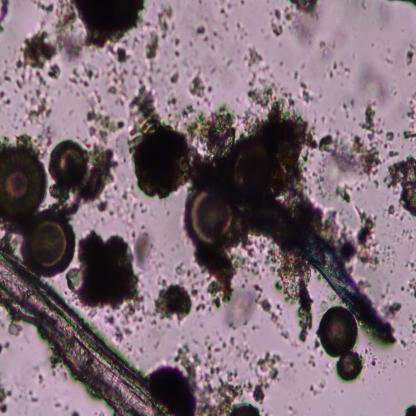Background material: (197, 96, 317, 208), (68, 224, 152, 314), (196, 330, 260, 416), (136, 125, 196, 203), (318, 107, 382, 177), (271, 250, 316, 344), (69, 1, 148, 52), (226, 329, 281, 400), (192, 245, 244, 316), (149, 343, 198, 412), (243, 43, 286, 112), (183, 104, 236, 157), (340, 208, 384, 269), (347, 57, 394, 111), (22, 82, 56, 151), (18, 30, 61, 84), (250, 287, 291, 339), (88, 143, 120, 205), (104, 41, 135, 103), (146, 4, 180, 58), (54, 1, 84, 61), (153, 280, 191, 325), (324, 24, 354, 81), (388, 154, 416, 215), (89, 108, 122, 149), (105, 302, 136, 345), (165, 66, 183, 130), (210, 0, 232, 50), (72, 61, 101, 95), (131, 228, 154, 269), (292, 64, 314, 104), (400, 94, 416, 143), (186, 72, 212, 101), (290, 1, 320, 24), (32, 0, 59, 25), (379, 297, 402, 323), (51, 398, 80, 416), (13, 386, 36, 407), (384, 128, 400, 157), (334, 181, 354, 204), (272, 6, 285, 38), (3, 315, 21, 338), (306, 380, 327, 398), (0, 383, 13, 412), (0, 0, 10, 33), (0, 89, 17, 108), (0, 59, 13, 83), (403, 274, 416, 298), (195, 21, 210, 40), (366, 345, 378, 368), (234, 22, 249, 40), (406, 42, 416, 68), (384, 0, 415, 7), (36, 370, 48, 388), (409, 312, 416, 340), (0, 341, 12, 354), (306, 354, 317, 368), (399, 335, 408, 350), (404, 403, 416, 414)
Cellulose filter fibre: (0, 250, 167, 415)
Cotton: (211, 167, 394, 347)
Diatom: (0, 146, 46, 226), (182, 186, 238, 250), (25, 210, 75, 274), (124, 86, 160, 147), (318, 303, 358, 357), (49, 140, 87, 191), (336, 350, 364, 384)
